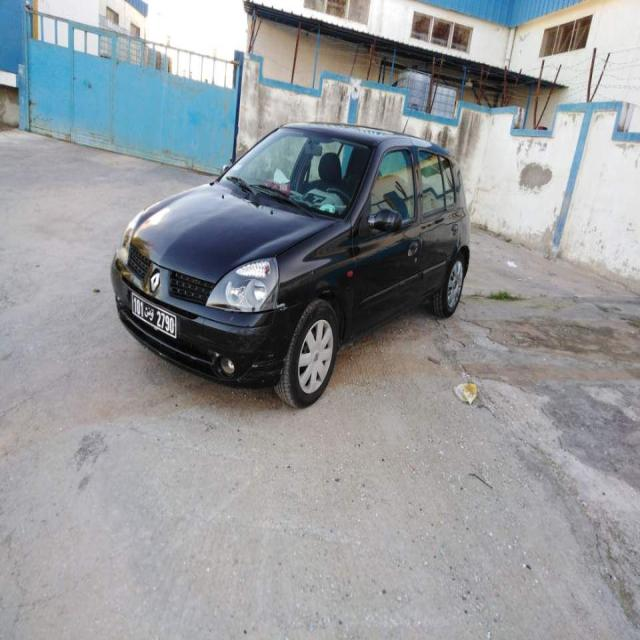LP: (130, 292, 176, 338)
